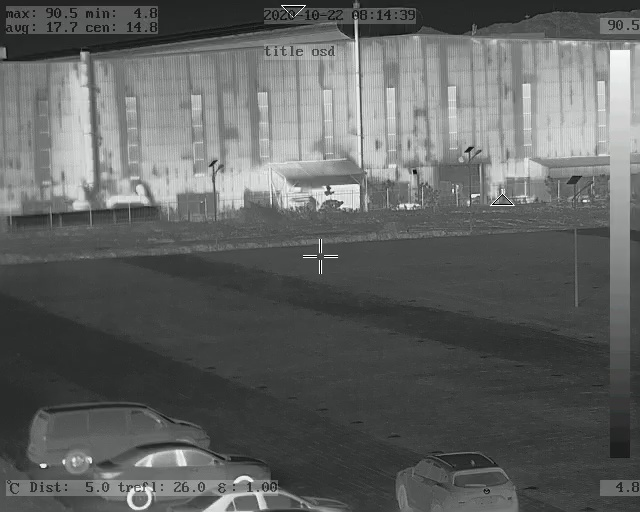vehicle: (90, 443, 277, 509), (27, 404, 208, 470), (395, 451, 522, 512)
